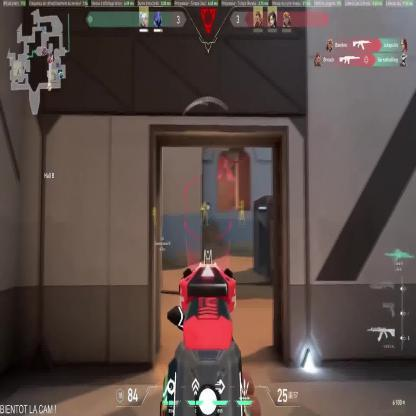enemy: (201, 200, 210, 225), (238, 199, 246, 225), (152, 206, 158, 226)
enemy_head: (240, 200, 244, 206), (153, 207, 156, 211), (204, 200, 206, 206)
